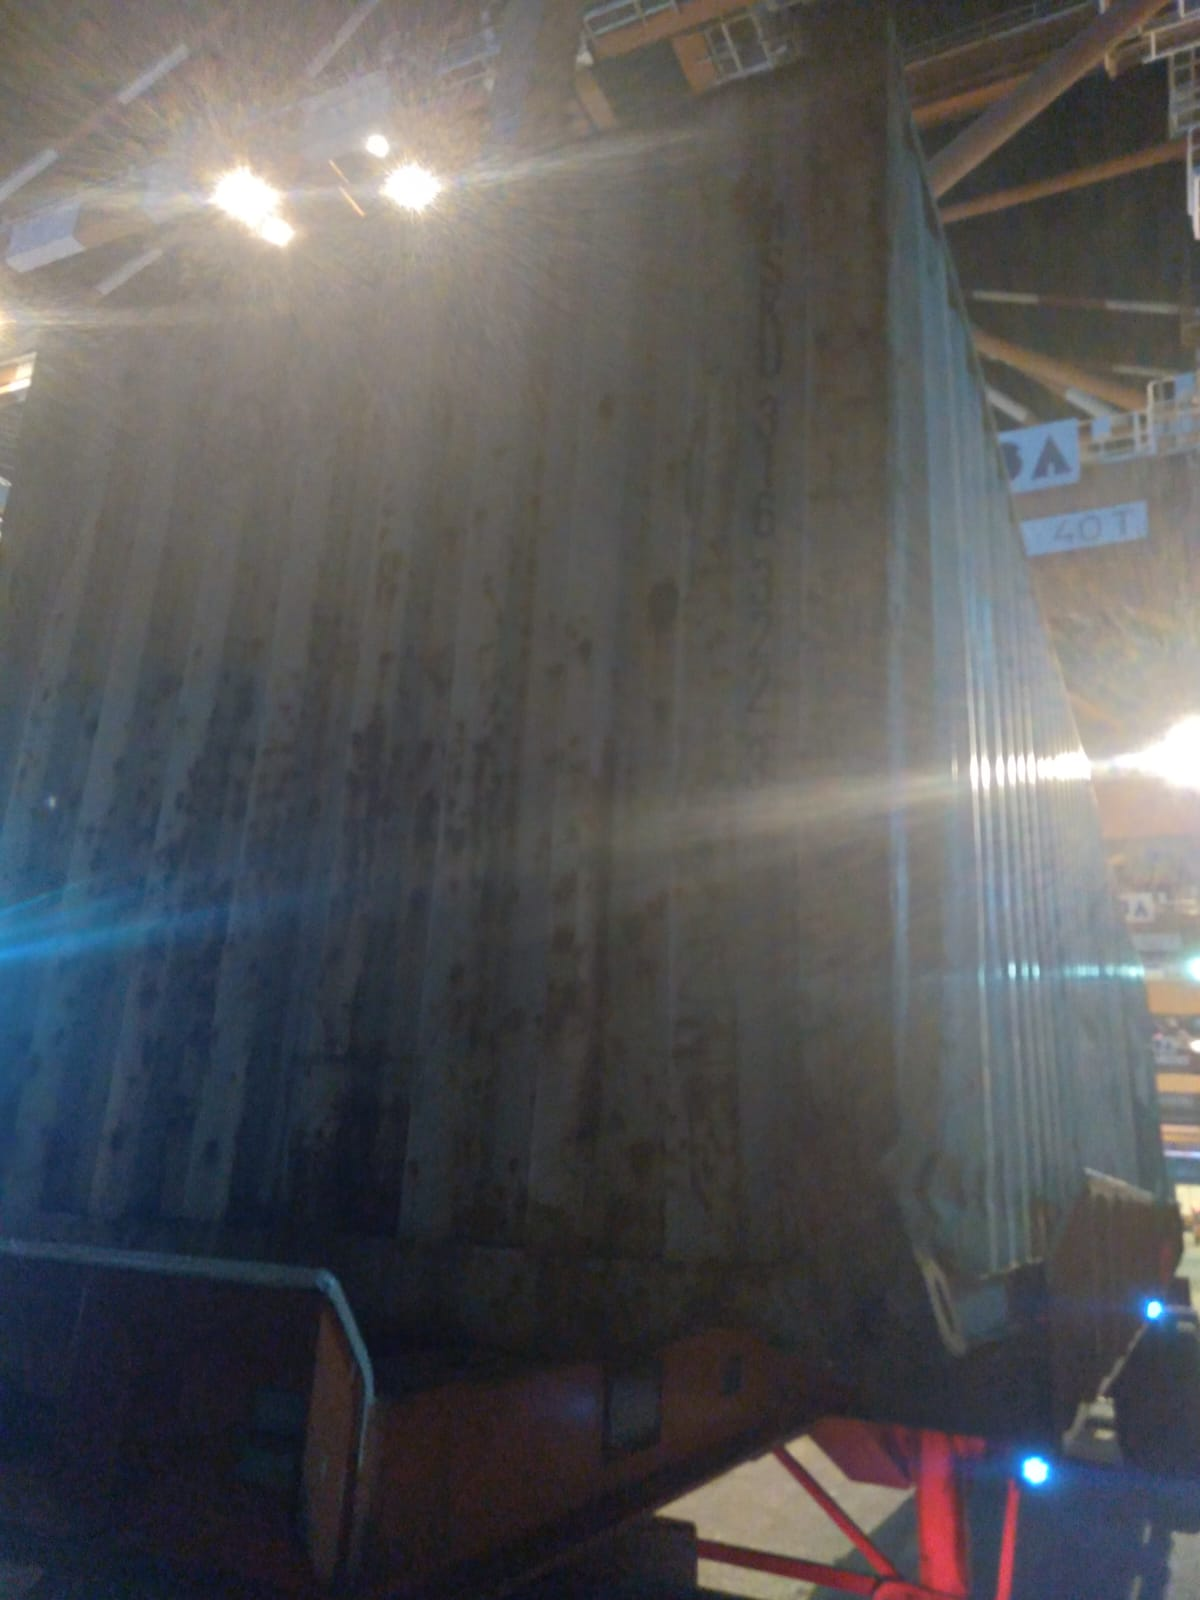dented: (773, 1042, 1017, 1301)
